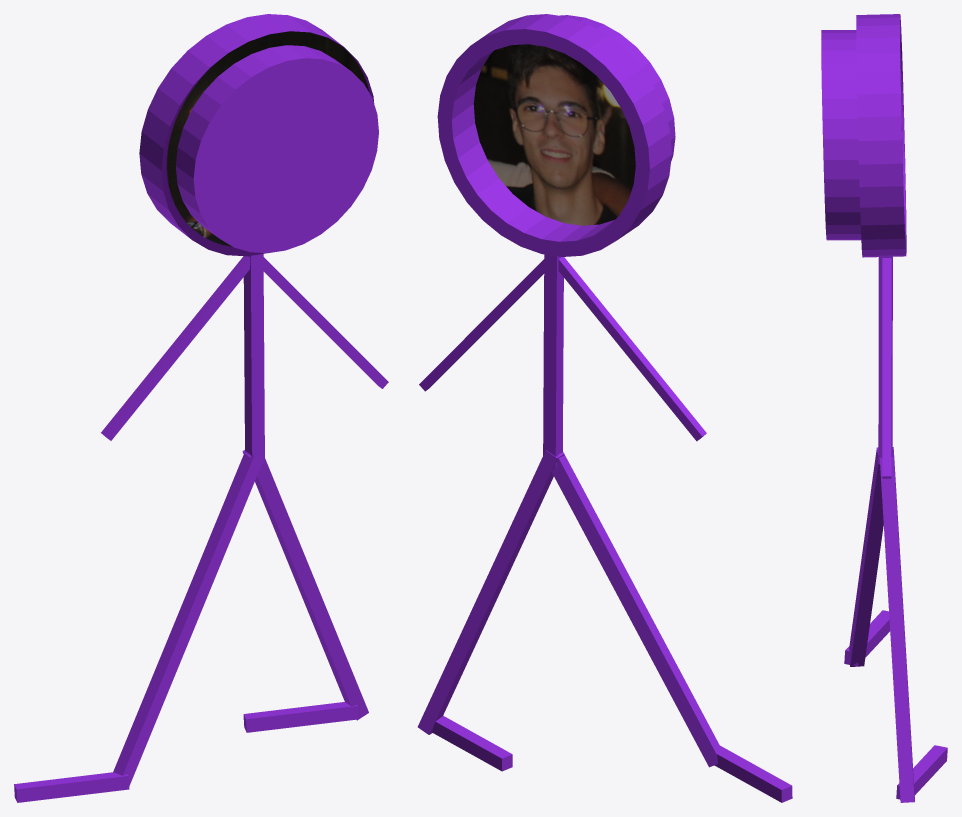
The model's file is Simao.glb.
3 renders of one model, left to right at view 1: azimuth 30°, elevation 25°; view 2: azimuth 150°, elevation 25°; view 3: azimuth 270°, elevation 25°, orthographic.
Visible parts, largest first — view 1: Cylinder; view 2: Cylinder; view 3: Cylinder.
Part boxes in pixels (left/top/right/bottom): Cylinder: left=14, top=14, right=388, bottom=802; Cylinder: left=417, top=14, right=792, bottom=802; Cylinder: left=821, top=14, right=947, bottom=802.
Bounding box in the file's own units: 5.37 × 10.11 × 1.6.
2 materials, 1 textured.
